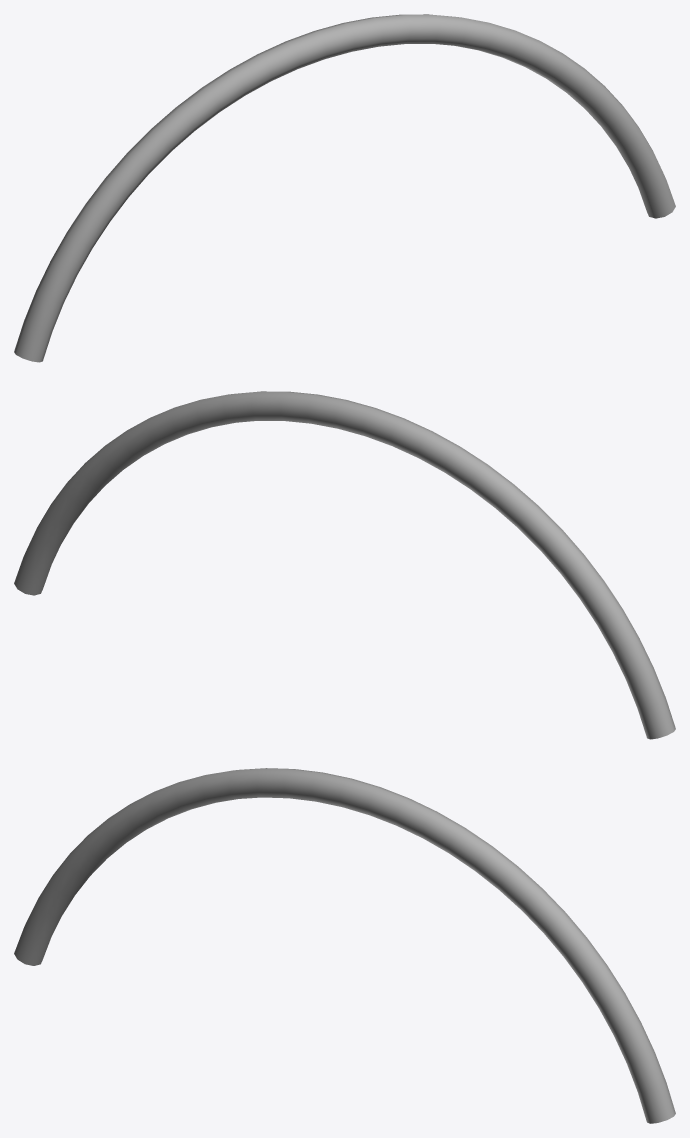
The model's file is ring.FBX.
3 views of the same model, one above another, from view 1: azimuth 30°, elevation 25°; view 2: azimuth 150°, elevation 25°; view 3: azimuth 330°, elevation 25° (orthographic).
Parts seen in each view (by area): view 1: Arc001; view 2: Arc001; view 3: Arc001.
Boxes of the visible parts, box(x1,y1,x2,y2) form: Arc001: box(14, 14, 675, 362); Arc001: box(14, 391, 675, 739); Arc001: box(14, 768, 675, 1123).
Size of the model in its own units: 537 by 208 by 20.41.
1 material, 1 textured.
